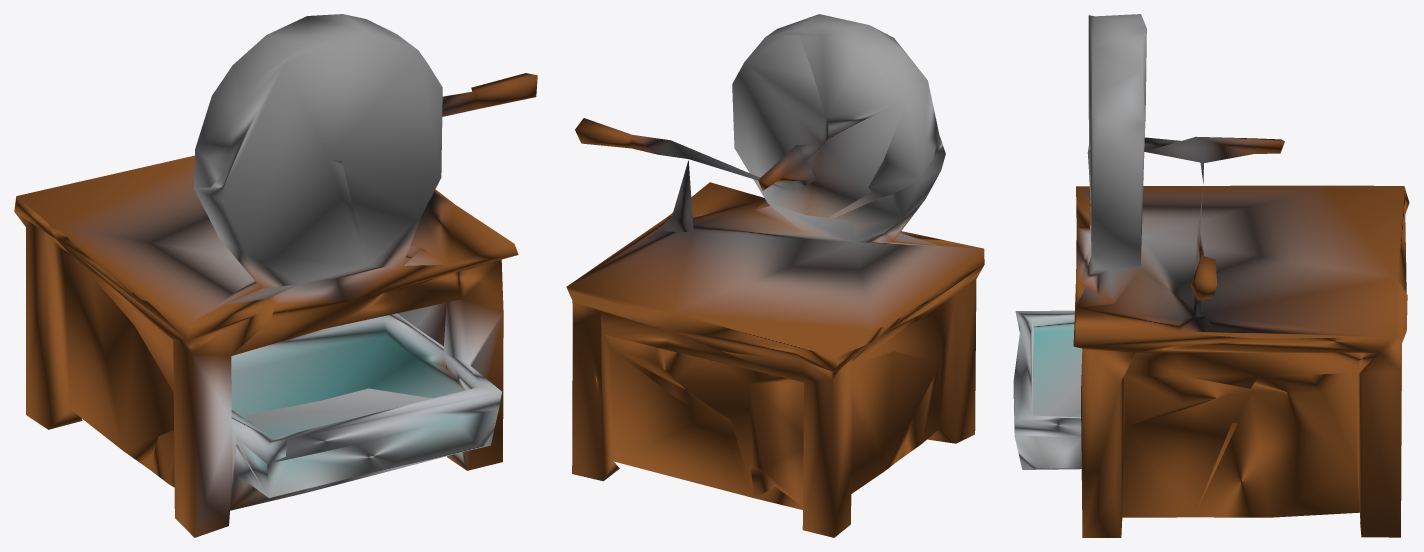
File: gen3d-grindstone-lod1.glb
3 renders of one model, left to right at view 1: azimuth 30°, elevation 25°; view 2: azimuth 150°, elevation 25°; view 3: azimuth 270°, elevation 25°, orthographic. The views are drawn at different scales.
Visible parts, largest first — view 1: part_0; view 2: part_0; view 3: part_0.
Boxes of the visible parts, x1,y1,x2,y2 form: part_0: [14, 14, 537, 537]; part_0: [566, 14, 984, 537]; part_0: [1013, 14, 1409, 537].
Size of the model in its own units: 0.926 by 0.9891 by 0.8149.
